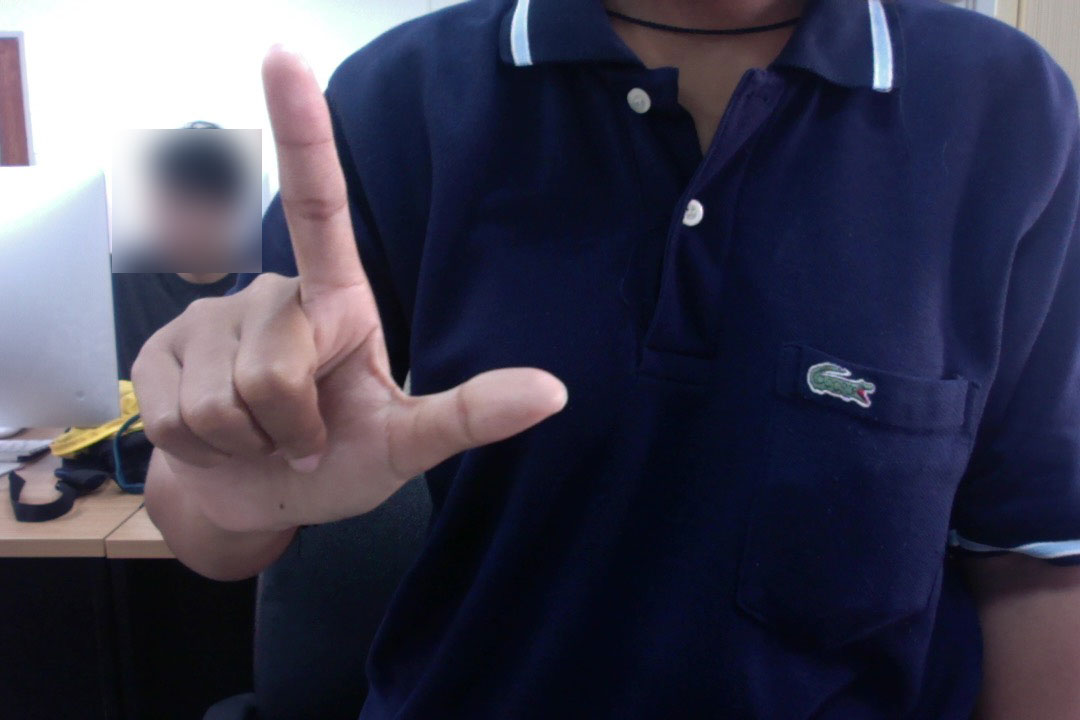lor: (105, 34, 575, 561)
